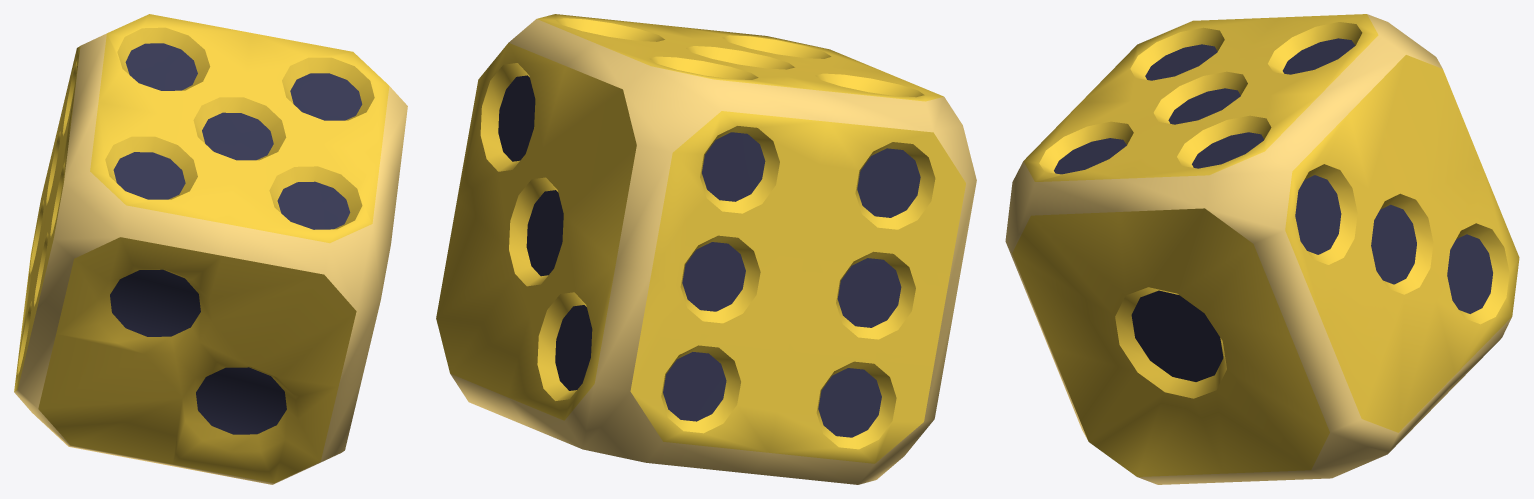
The picture shows the model from 3 angles, left to right: view 1: azimuth 30°, elevation 25°; view 2: azimuth 150°, elevation 25°; view 3: azimuth 270°, elevation 25°; orthographic projection. The views are drawn at different scales.
Parts seen in each view (by area): view 1: model_0.046; view 2: model_0.046; view 3: model_0.046.
Boxes of the visible parts, bbox=[...] form: model_0.046: bbox=[14, 14, 407, 484]; model_0.046: bbox=[436, 14, 976, 484]; model_0.046: bbox=[1005, 14, 1519, 484].
Size of the model in its own units: 3.78 by 3.77 by 4.17.
